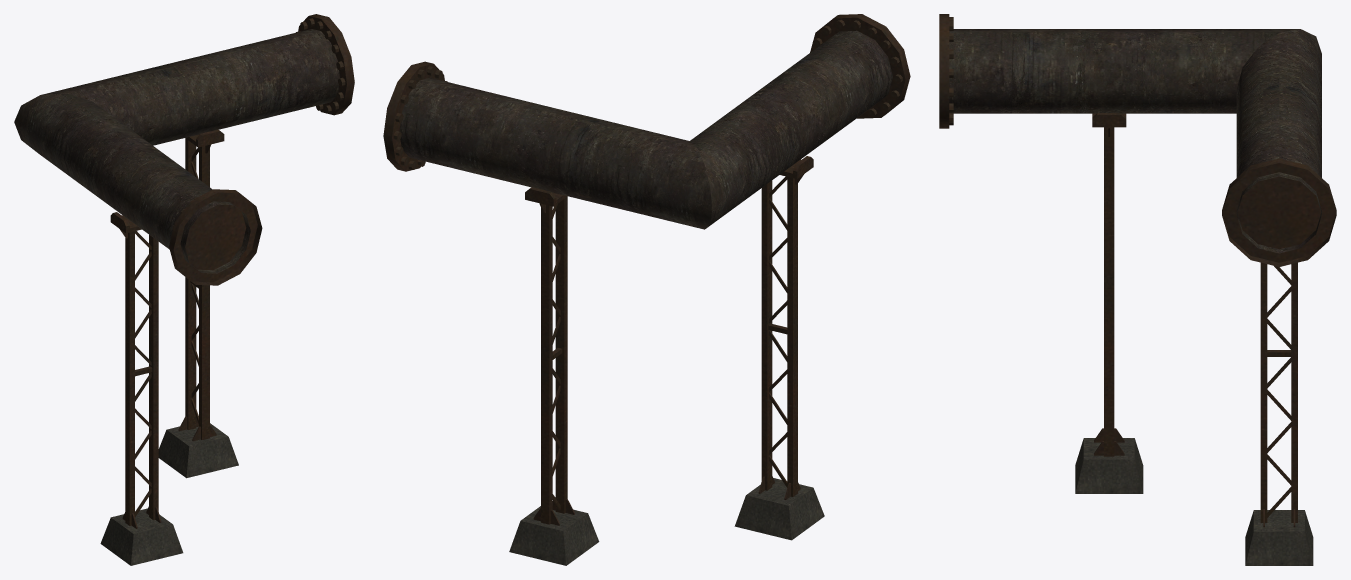
File: pipe_cx_3.obj
3 renders of one model, left to right at view 1: azimuth 30°, elevation 25°; view 2: azimuth 150°, elevation 25°; view 3: azimuth 270°, elevation 25°, orthographic. The views are drawn at different scales.
Visible parts, largest first — view 1: pipe_cx_3; view 2: pipe_cx_3; view 3: pipe_cx_3.
Boxes of the visible parts, <box> form: pipe_cx_3: <box>14,14,354,565</box>; pipe_cx_3: <box>383,14,910,565</box>; pipe_cx_3: <box>939,14,1336,565</box>.
Size of the model in its own units: 2.34 by 2.99 by 2.34.
